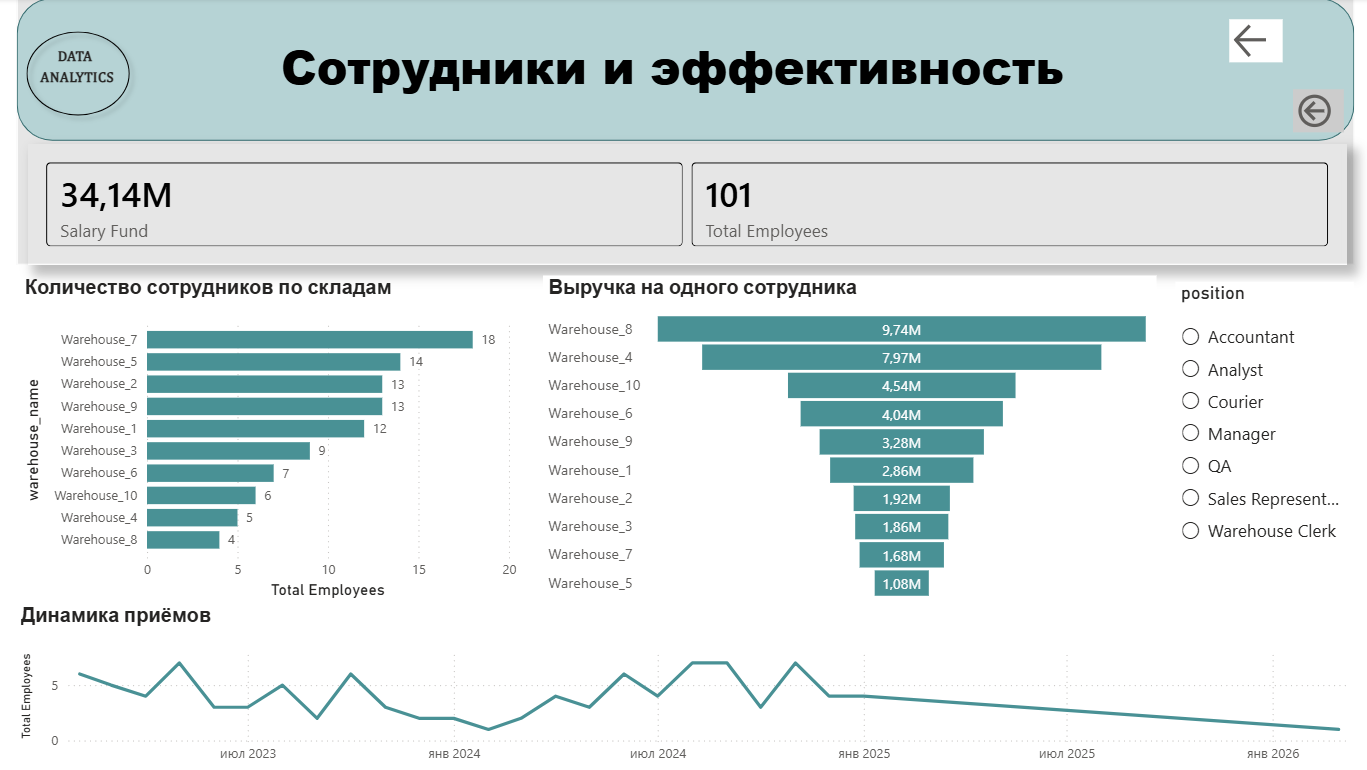

Layout of this report page (visuals, bound fields, positions):
{"tool":"powerbi","page":{"name":"Сотрудники и эффективность","canvas":[1280,720],"ordinal":3},"visuals":[{"type":"shape","box":[22.1,0,1241.9,247.7],"z":0},{"type":"shape","box":[22.1,0,1241.9,132.6],"z":1000},{"type":"textbox","box":[24.7,39.8,107,59],"z":2000},{"type":"shape","box":[22,22,113.9,96.1],"z":3000},{"type":"textbox","box":[262.2,28.1,778.4,70.9],"z":4000},{"type":"actionButton","box":[1147.6,20.1,49.5,40.1],"z":5000},{"type":"actionButton","box":[1206.4,84.3,46.8,40.1],"z":6000},{"type":"barChart","title":"Количество сотрудников по складам","fields":{"Category":["public_wb.warehouse_name"],"Y":["nomenclature_reference.Total Employees"]},"box":[24.1,258.1,466.8,305],"z":7000},{"type":"cardVisual","fields":{"Data":["nomenclature_reference.Salary Fund","nomenclature_reference.Total Employees"]},"box":[32.4,136.3,1224.8,112.3],"z":8000},{"type":"lineChart","title":"Динамика приёмов","fields":{"Category":["public_staff.hire_date.Variation.Date Hierarchy.Year","public_staff.hire_date.Variation.Date Hierarchy.Quarter","public_staff.hire_date.Variation.Date Hierarchy.Month","public_staff.hire_date.Variation.Date Hierarchy.Day"],"Y":["nomenclature_reference.Total Employees"]},"box":[21.4,563.1,1258.6,156.5],"z":9000},{"type":"funnel","title":"Выручка на одного сотрудника","fields":{"Category":["public_wb.warehouse_name"],"Y":["nomenclature_reference.Revenue per Employee"]},"box":[510.9,258.1,569.8,305],"z":10000},{"type":"listSlicer","fields":{"Values":["public_staff.position"]},"box":[1098.1,263.5,165.9,276.9],"z":11000}]}

Visuals, with their boxes in screenshot pixels (x1, y1, x2, y2), scaled from the page's 1280x720 canvas onto the 1367x770 screenshot:
shape: box=[24, 0, 1350, 265]
shape: box=[24, 0, 1350, 142]
textbox: box=[26, 43, 141, 106]
shape: box=[23, 24, 145, 126]
textbox: box=[280, 30, 1111, 106]
actionButton: box=[1226, 21, 1278, 64]
actionButton: box=[1288, 90, 1338, 133]
"Количество сотрудников по складам" barChart: box=[26, 276, 524, 602]
cardVisual - nomenclature_reference.Salary Fund x nomenclature_reference.Total Employees: box=[35, 146, 1343, 266]
"Динамика приёмов" lineChart: box=[23, 602, 1366, 769]
"Выручка на одного сотрудника" funnel: box=[546, 276, 1154, 602]
listSlicer - public_staff.position: box=[1173, 282, 1350, 578]
